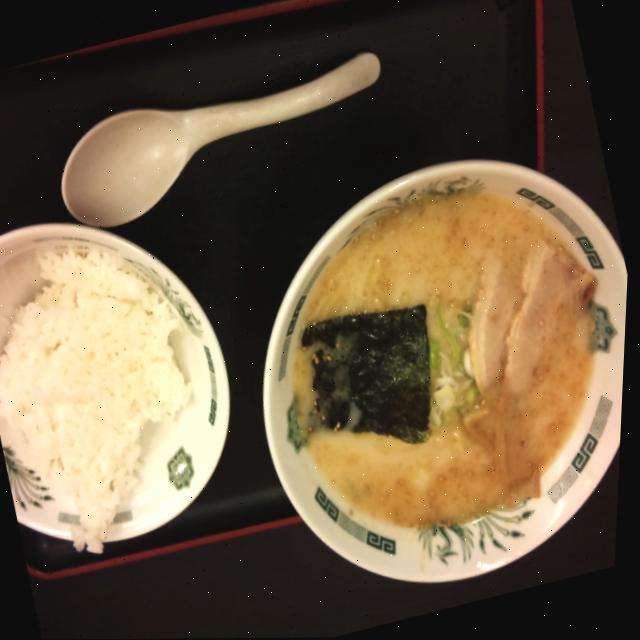米饭主食: (0, 223, 247, 580)
面条主食: (233, 161, 634, 582)
